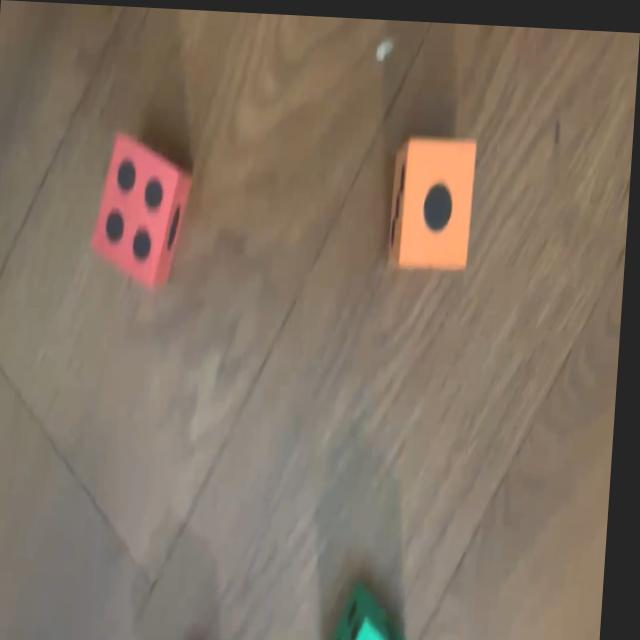cube: (93, 130, 194, 288), (330, 582, 426, 640)
